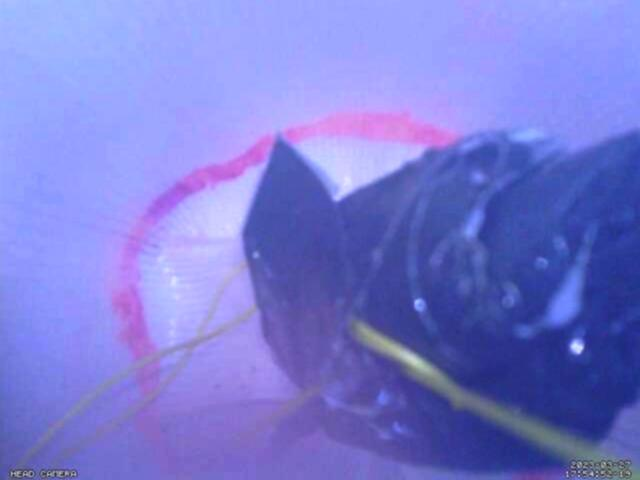head: (112, 109, 462, 480)
